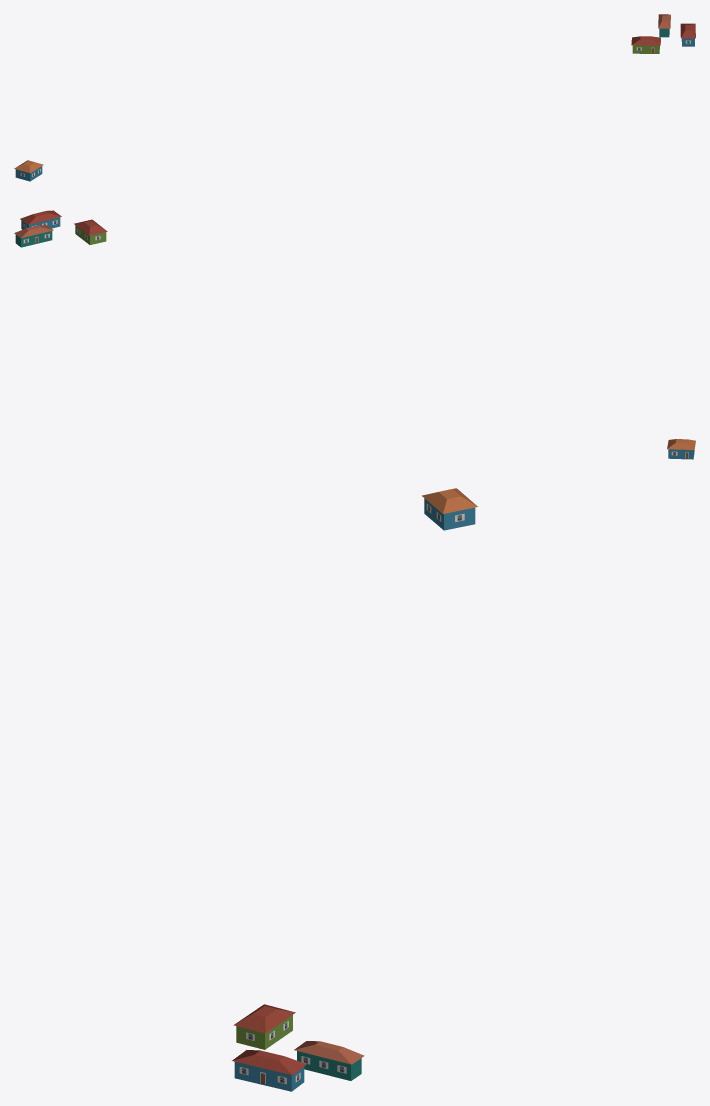
The model's file is msb_oranjestad_m12_7.glb.
3 renders of one model, top to bottom at view 1: azimuth 30°, elevation 25°; view 2: azimuth 150°, elevation 25°; view 3: azimuth 270°, elevation 25°, orthographic. The views are drawn at different scales.
Parts seen in each view (by area): view 1: msb_oranjestad_m12_7_lod0; view 2: msb_oranjestad_m12_7_lod0; view 3: msb_oranjestad_m12_7_lod0.
Boxes of the visible parts, left/top/right/bottom form: msb_oranjestad_m12_7_lod0: left=14, top=14, right=695, bottom=181; msb_oranjestad_m12_7_lod0: left=14, top=210, right=695, bottom=459; msb_oranjestad_m12_7_lod0: left=232, top=488, right=477, bottom=1091.
Size of what is drawn, in the model's own units: 264 by 12.72 by 44.09.
2 materials, 1 textured.
